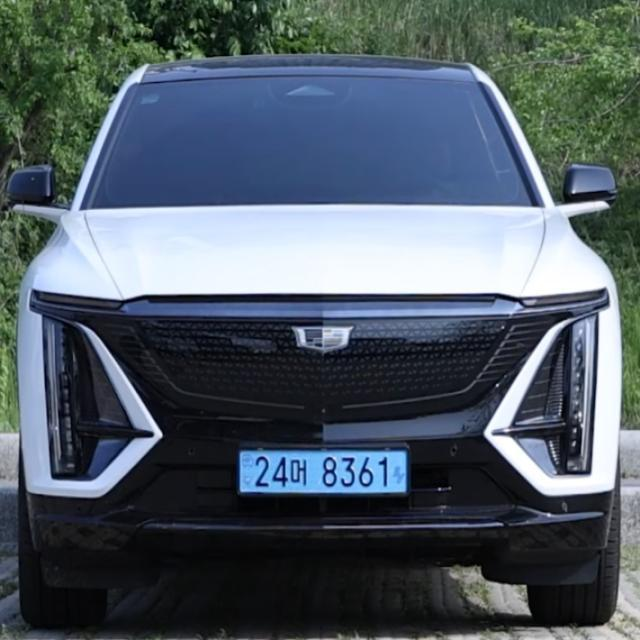car: (226, 436, 429, 513)
carev: (233, 446, 255, 499), (388, 448, 410, 500)
